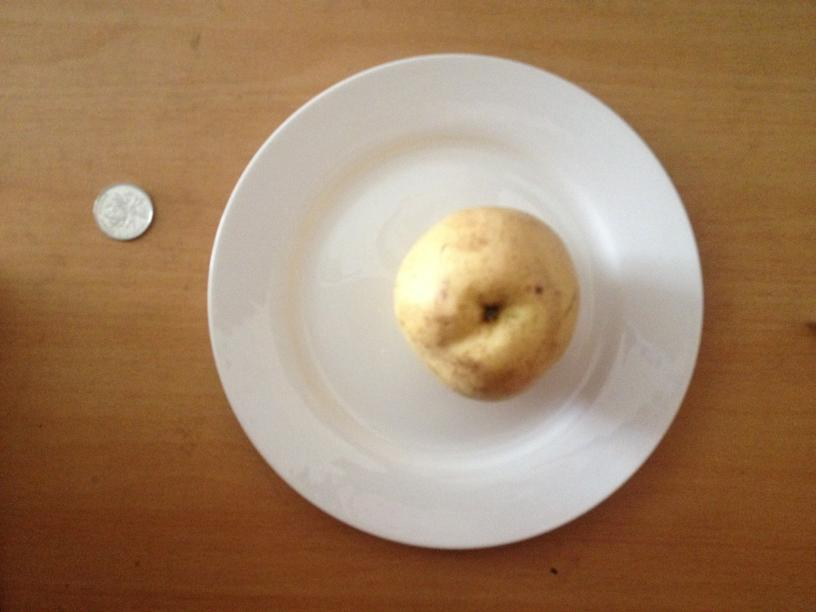coin: (94, 182, 155, 240)
pear: (391, 207, 580, 401)
